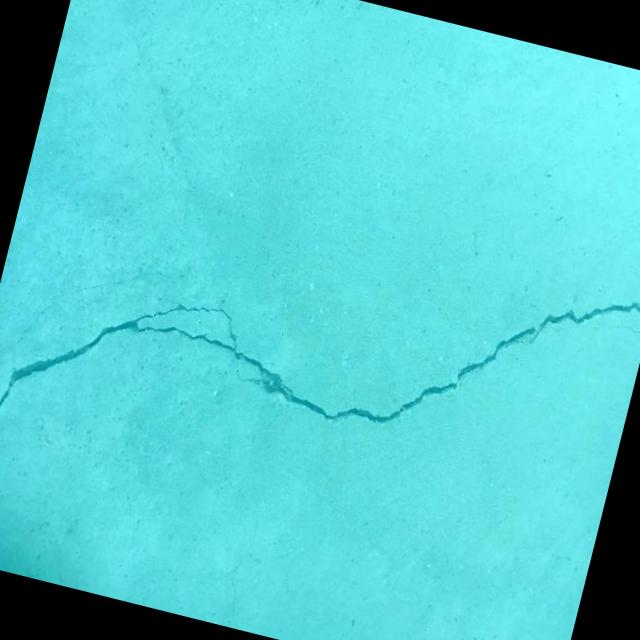crack: (0, 150, 640, 573), (29, 257, 134, 350), (606, 320, 640, 337)
